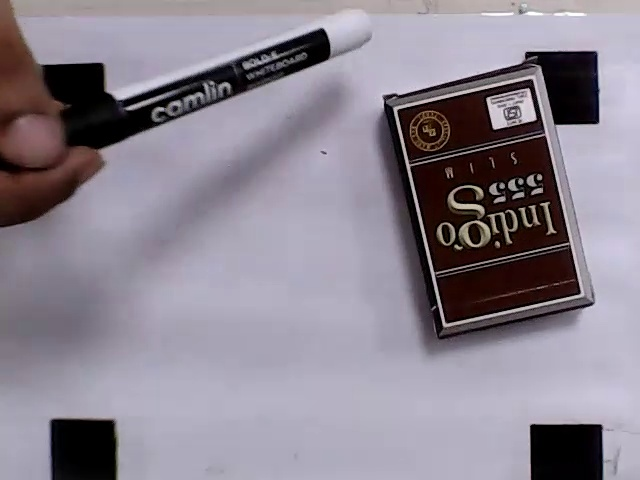BEX: (393, 76, 582, 324)
